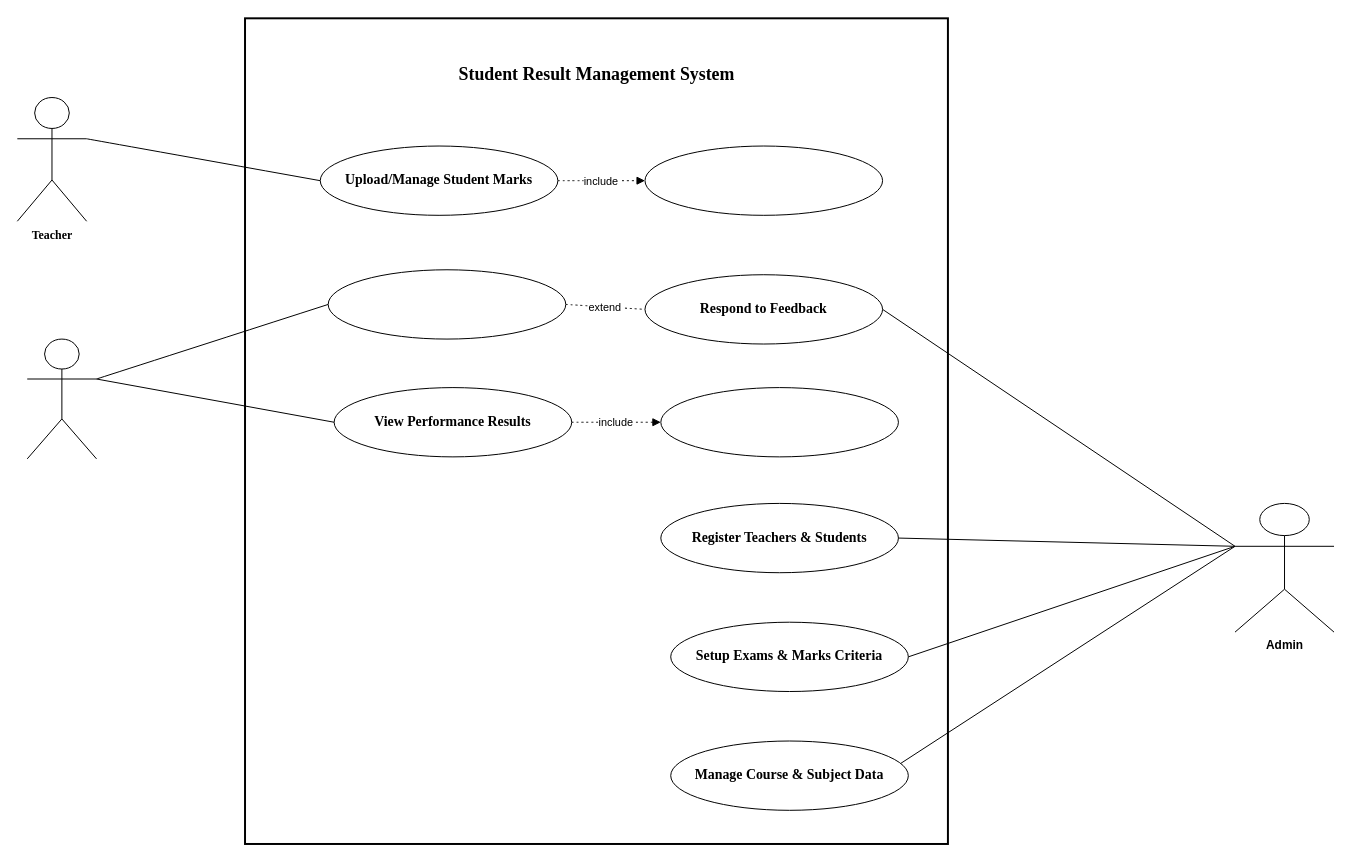
This 1351x861 diagram has some shape labels left out. The centre of each missing label's shape, as x and y in pixels:
"Student" belongs at point 61,398.
"Submit Feedback/Suggestions" belongs at point 446,304.
"Validate Against Exam Criteria" belongs at point 763,180.
"Verify Student ID & DOB" belongs at point 779,422.
